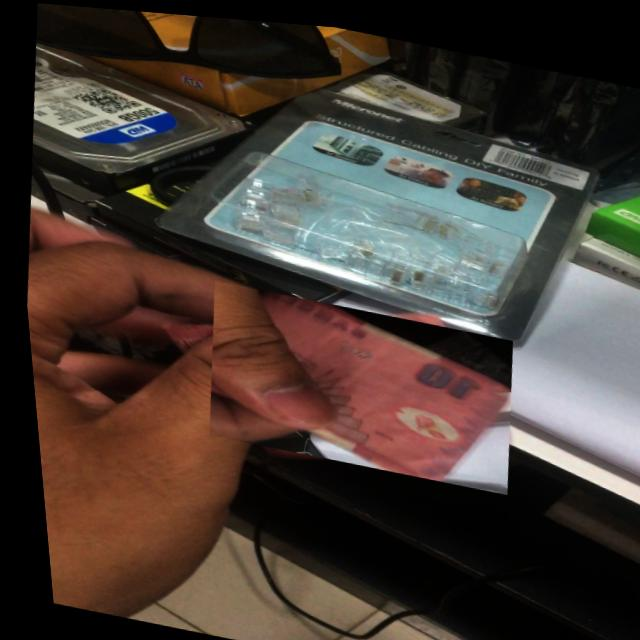Taka: (190, 276, 517, 488)
